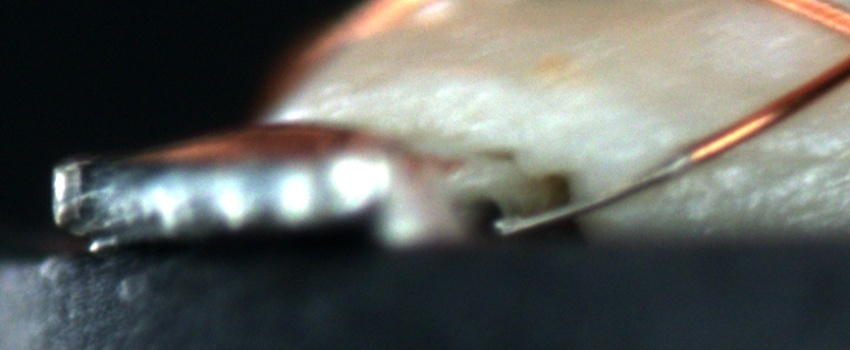DL: (753, 122, 850, 186)
TS: (492, 150, 695, 237)
TTCW: (494, 124, 728, 234)
